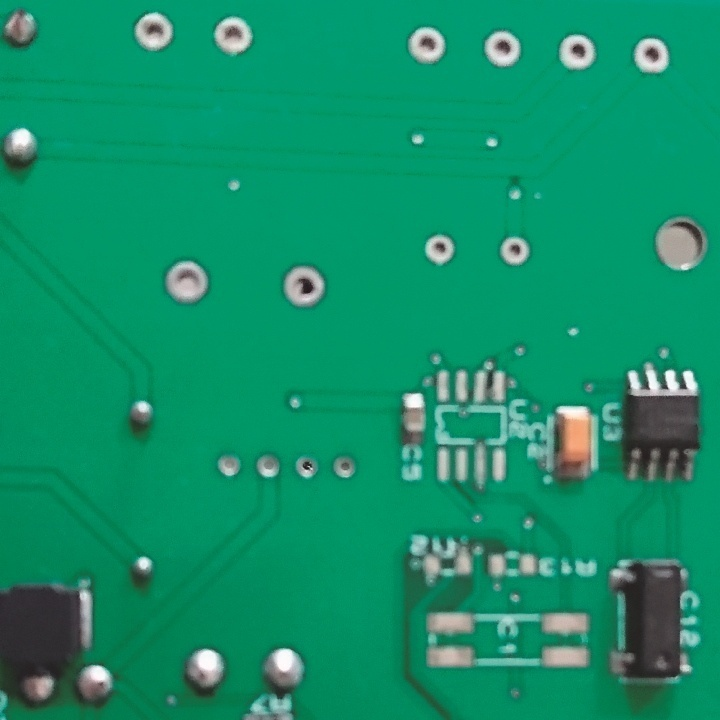F: (160, 254, 210, 310), (279, 259, 327, 311), (130, 6, 176, 58), (550, 29, 603, 72), (403, 23, 452, 68), (627, 32, 673, 78), (209, 12, 253, 60), (478, 28, 526, 69), (419, 229, 459, 269), (497, 231, 530, 268), (209, 447, 244, 481), (328, 449, 359, 485), (290, 450, 323, 483), (254, 448, 282, 484)
